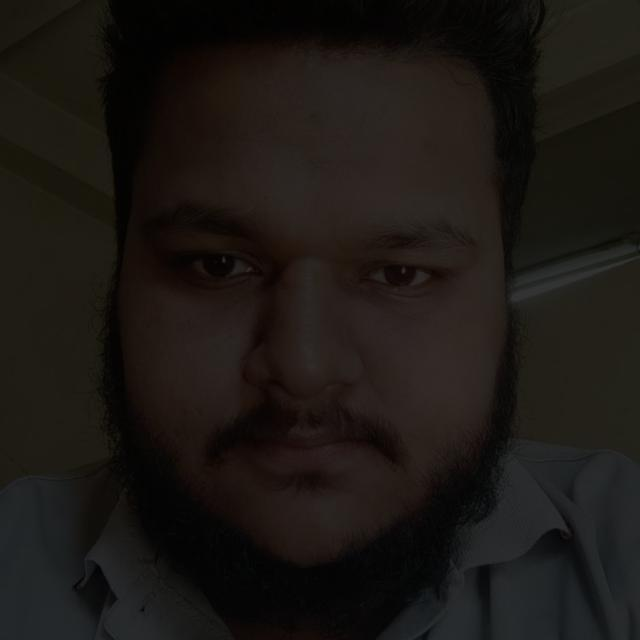natural: (21, 118, 519, 564)
